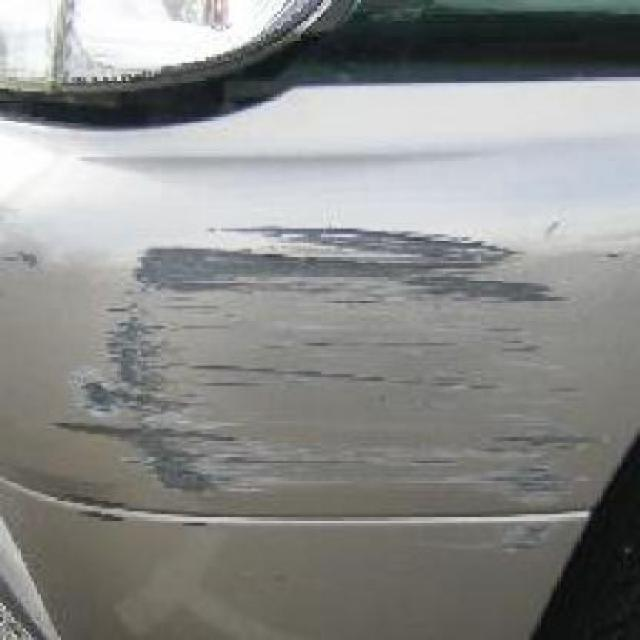dent-or-scratch: (110, 210, 570, 542)
